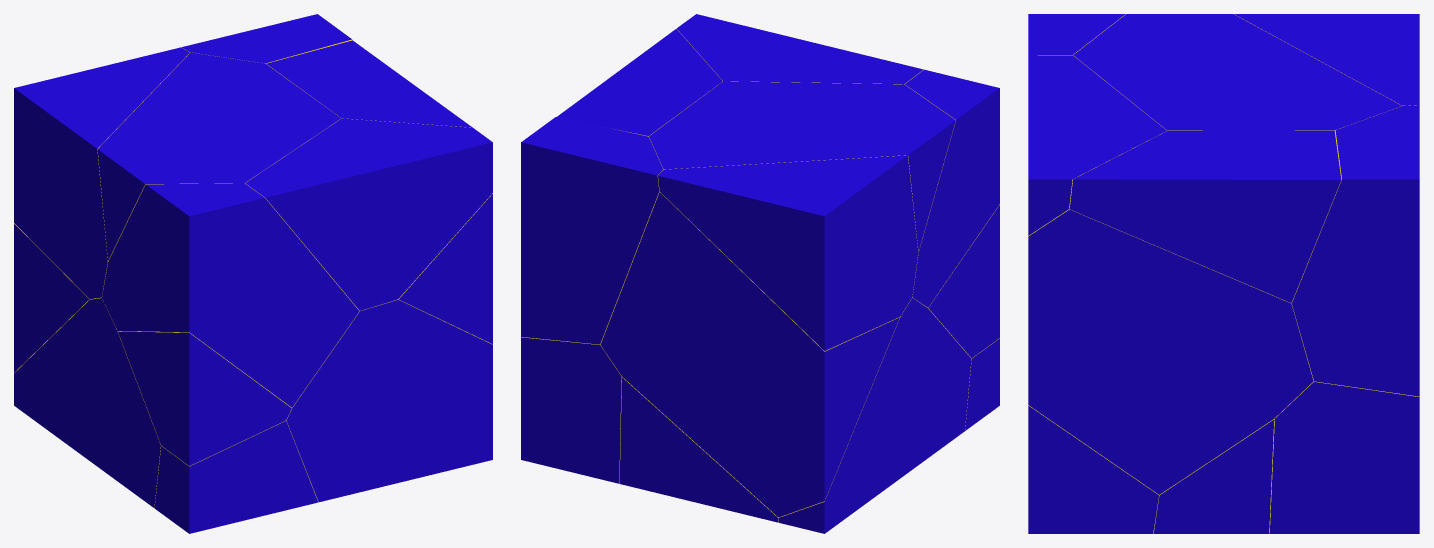
Rendered from CubeFractured.glb.
3 views of the same model, side by side, from view 1: azimuth 30°, elevation 25°; view 2: azimuth 150°, elevation 25°; view 3: azimuth 270°, elevation 25° (orthographic). The views are drawn at different scales.
Visible parts, largest first — view 1: Cube_cell.005, Cube_cell.013, Cube_cell.003, Cube_cell.004, Cube_cell.007, Cube_cell.006, Cube_cell.008, Cube_cell.002, Cube_cell.010, Cube_cell.001, Cube_cell.011, Cube_cell.012; view 2: Cube_cell.011, Cube_cell.007, Cube_cell.012, Cube_cell.004, Cube_cell.006, Cube_cell.014, Cube_cell.005, Cube_cell.003, Cube_cell.009, Cube_cell.010, Cube_cell.008, Cube_cell.002; view 3: Cube_cell.001, Cube_cell.010, Cube_cell.012, Cube_cell.004, Cube_cell.014, Cube_cell.003, Cube_cell.013, Cube_cell.007, Cube_cell, Cube_cell.005.
Boxes of the visible parts, x1=… form: Cube_cell.005: x1=102, y1=183, x2=359, y2=407; Cube_cell.013: x1=286, y1=299, x2=492, y2=502; Cube_cell.003: x1=245, y1=118, x2=492, y2=310; Cube_cell.004: x1=97, y1=52, x2=340, y2=261; Cube_cell.007: x1=14, y1=47, x2=190, y2=299; Cube_cell.006: x1=14, y1=297, x2=161, y2=508; Cube_cell.008: x1=118, y1=331, x2=291, y2=465; Cube_cell.002: x1=154, y1=420, x2=318, y2=533; Cube_cell.010: x1=266, y1=40, x2=472, y2=127; Cube_cell.001: x1=398, y1=193, x2=492, y2=344; Cube_cell.011: x1=14, y1=223, x2=95, y2=372; Cube_cell.012: x1=181, y1=14, x2=352, y2=63; Cube_cell.011: x1=600, y1=192, x2=899, y2=517; Cube_cell.007: x1=658, y1=155, x2=918, y2=350; Cube_cell.012: x1=521, y1=117, x2=663, y2=344; Cube_cell.004: x1=649, y1=81, x2=955, y2=251; Cube_cell.006: x1=778, y1=297, x2=971, y2=533; Cube_cell.014: x1=521, y1=337, x2=621, y2=483; Cube_cell.005: x1=905, y1=69, x2=999, y2=307; Cube_cell.003: x1=676, y1=14, x2=923, y2=84; Cube_cell.009: x1=619, y1=377, x2=778, y2=522; Cube_cell.010: x1=557, y1=29, x2=722, y2=136; Cube_cell.008: x1=928, y1=204, x2=999, y2=358; Cube_cell.002: x1=965, y1=338, x2=999, y2=430; Cube_cell.001: x1=1028, y1=209, x2=1313, y2=494; Cube_cell.010: x1=1069, y1=130, x2=1341, y2=302; Cube_cell.012: x1=1291, y1=105, x2=1419, y2=396; Cube_cell.004: x1=1073, y1=14, x2=1401, y2=131; Cube_cell.014: x1=1269, y1=380, x2=1419, y2=533; Cube_cell.003: x1=1028, y1=55, x2=1166, y2=236; Cube_cell.013: x1=1028, y1=405, x2=1158, y2=533; Cube_cell.007: x1=1234, y1=14, x2=1419, y2=105; Cube_cell: x1=1153, y1=418, x2=1274, y2=533; Cube_cell.005: x1=1028, y1=14, x2=1125, y2=55.
Size of the model in its own units: 2 by 2 by 2.
